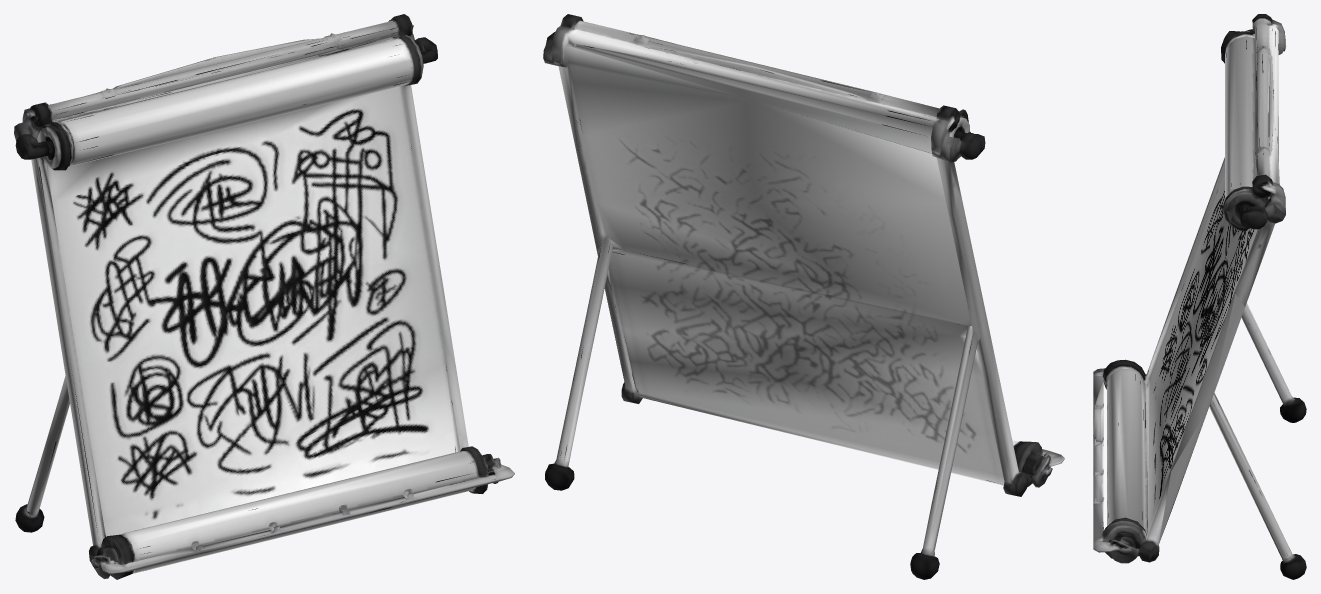
File: whiteboard.glb
3 renders of one model, left to right at view 1: azimuth 30°, elevation 25°; view 2: azimuth 150°, elevation 25°; view 3: azimuth 270°, elevation 25°, orthographic. The views are drawn at different scales.
Visible parts, largest first — view 1: low; view 2: low; view 3: low.
Part boxes in pixels (x1=…): low: x1=14, y1=14, x2=514, y2=579; low: x1=543, y1=14, x2=1064, y2=579; low: x1=1093, y1=14, x2=1306, y2=579.
Bounding box in the file's own units: 0.9557 × 0.9795 × 0.4697.
Materials: 1 (1 with a texture image).
